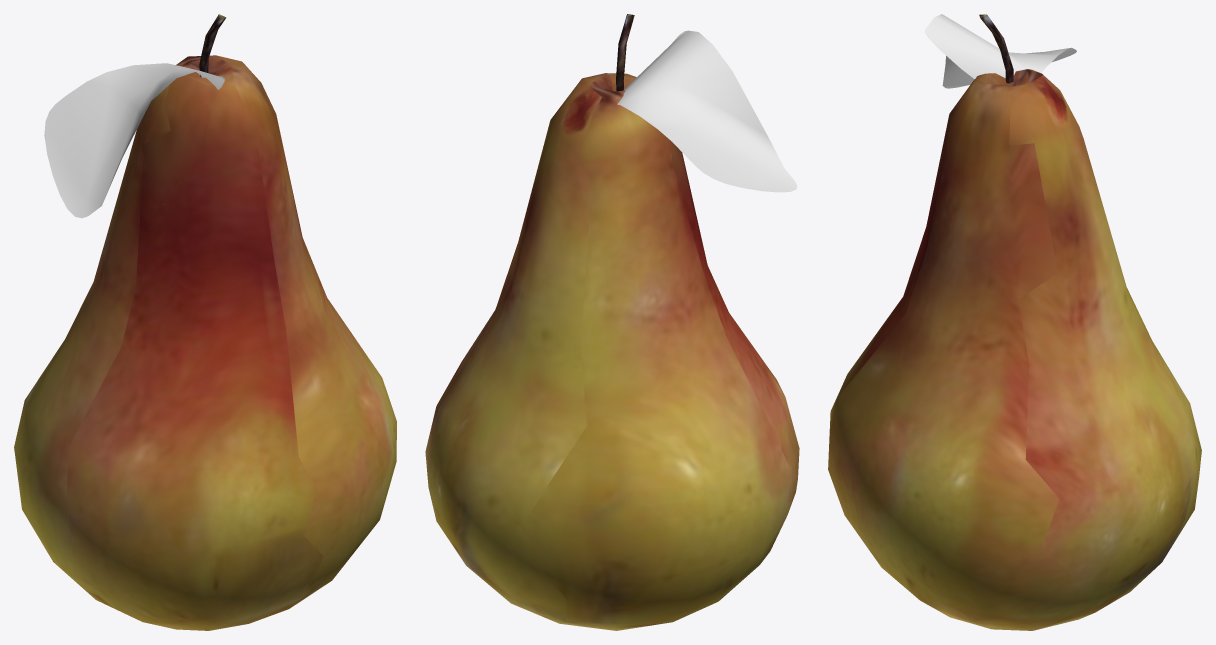
The model's file is pear.fbx.
3 views of the same model, side by side, from view 1: azimuth 30°, elevation 25°; view 2: azimuth 150°, elevation 25°; view 3: azimuth 270°, elevation 25° (orthographic). The views are drawn at different scales.
Parts seen in each view (by area): view 1: Pear; view 2: Pear; view 3: Pear.
Boxes of the visible parts, bbox=[...] form: Pear: bbox=[14, 14, 396, 630]; Pear: bbox=[425, 14, 799, 630]; Pear: bbox=[828, 14, 1201, 630].
Size of the model in its own units: 7.79 by 13.17 by 7.7.
2 materials, 1 textured.
